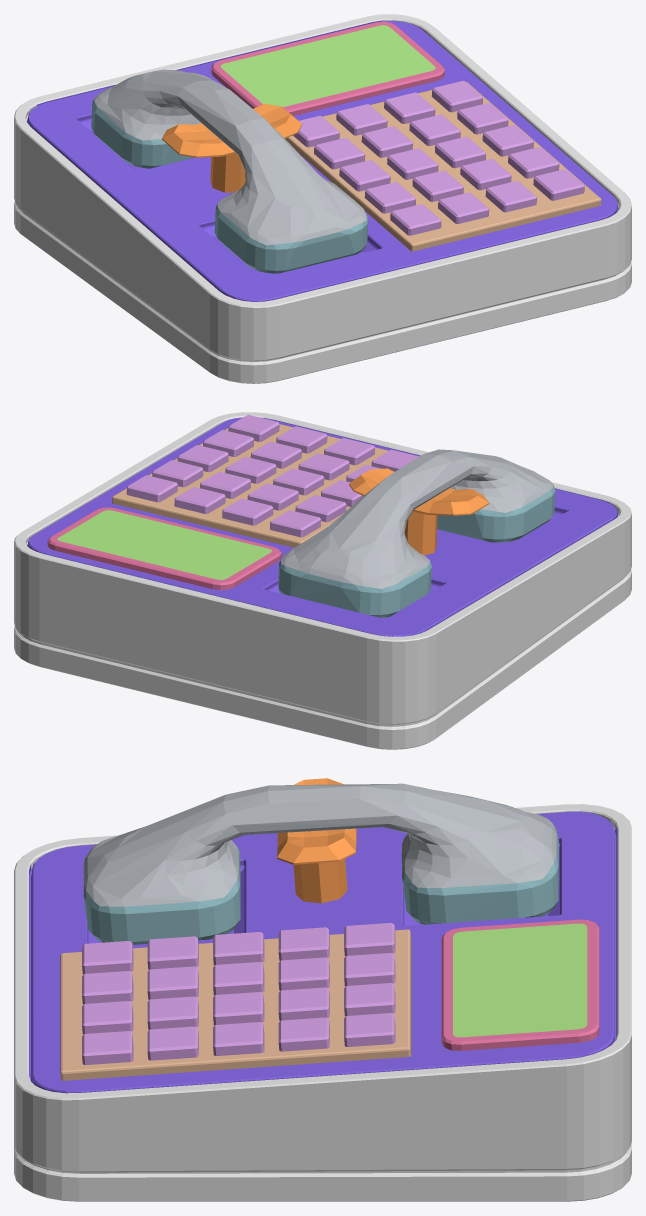
File: Telephone Nib v03.fbx
3 renders of one model, top to bottom at view 1: azimuth 30°, elevation 25°; view 2: azimuth 150°, elevation 25°; view 3: azimuth 270°, elevation 25°, orthographic. The views are drawn at different scales.
Visible parts, largest first — view 1: Base, phone, Monitor_shell_side_Buttons, Screen_1, Keypad, ScreenCase, Phone; view 2: Base, phone, Monitor_shell_side_Buttons, Screen_1, Keypad, ScreenCase, Phone; view 3: Base, phone, Monitor_shell_side_Buttons, Keypad, Screen_1, ScreenCase, Phone.
Boxes of the visible parts, left/top/right/bottom form: Base: left=14, top=14, right=631, bottom=383; phone: left=91, top=69, right=368, bottom=273; Monitor_shell_side_Buttons: left=293, top=80, right=584, bottom=235; Screen_1: left=220, top=25, right=435, bottom=107; Keypad: left=285, top=81, right=601, bottom=251; ScreenCase: left=211, top=21, right=444, bottom=115; Phone: left=162, top=103, right=302, bottom=192; Base: left=14, top=412, right=631, bottom=749; phone: left=278, top=449, right=555, bottom=617; Monitor_shell_side_Buttons: left=126, top=414, right=418, bottom=537; Screen_1: left=57, top=510, right=271, bottom=579; Keypad: left=112, top=424, right=388, bottom=547; ScreenCase: left=47, top=507, right=281, bottom=590; Phone: left=349, top=468, right=489, bottom=555; Base: left=14, top=804, right=631, bottom=1201; phone: left=83, top=783, right=558, bottom=944; Monitor_shell_side_Buttons: left=82, top=923, right=395, bottom=1064; Keypad: left=60, top=929, right=411, bottom=1080; Screen_1: left=453, top=923, right=587, bottom=1037; ScreenCase: left=441, top=919, right=599, bottom=1050; Phone: left=277, top=778, right=356, bottom=903.
Size of the model in its own units: 25.02 by 10.12 by 25.02.
